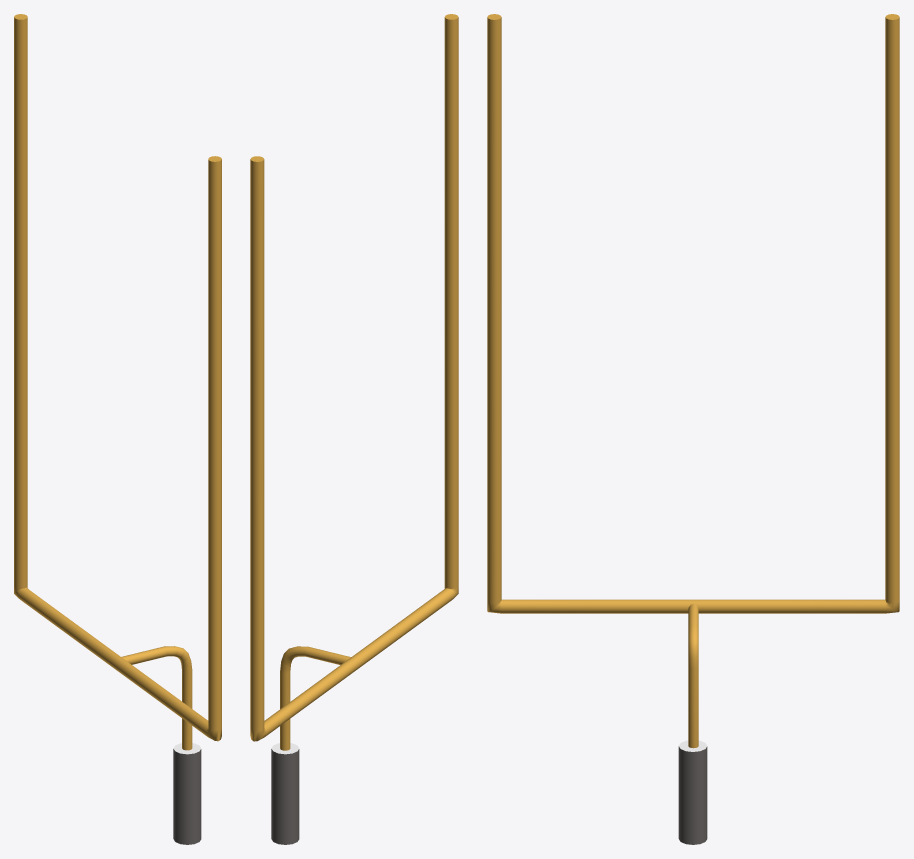
The model's file is FootballGoal.fbx.
3 renders of one model, left to right at view 1: azimuth 30°, elevation 25°; view 2: azimuth 150°, elevation 25°; view 3: azimuth 270°, elevation 25°, orthographic. The views are drawn at different scales.
Visible parts, largest first — view 1: Football goal; view 2: Football goal; view 3: Football goal.
Part boxes in pixels (x1,y1,x2,y2): Football goal: (14,14,221,844); Football goal: (250,14,458,844); Football goal: (487,14,899,844).
Bounding box in the file's own units: 146 × 1228 × 583.
